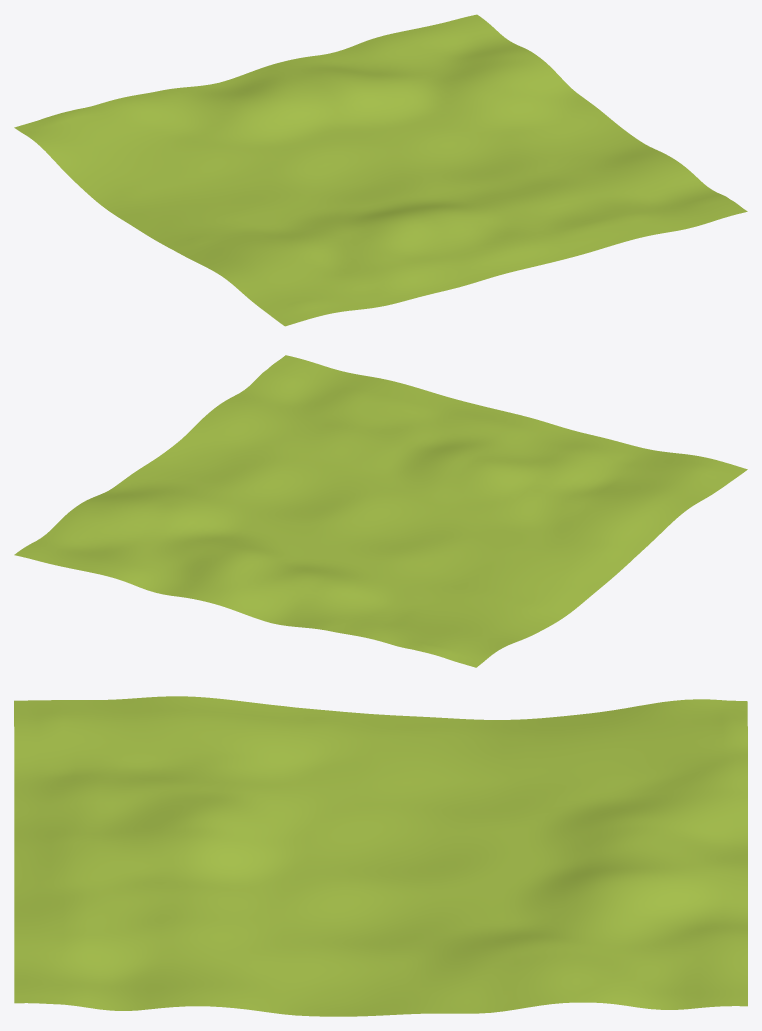
File: carre11.fbx
The picture shows the model from 3 angles, top to bottom: view 1: azimuth 30°, elevation 25°; view 2: azimuth 150°, elevation 25°; view 3: azimuth 270°, elevation 25°; orthographic projection. The views are drawn at different scales.
Visible parts, largest first — view 1: carre11; view 2: carre11; view 3: carre11.
Boxes of the visible parts, bbox=[...] form: carre11: bbox=[14, 14, 747, 326]; carre11: bbox=[14, 355, 747, 667]; carre11: bbox=[14, 696, 747, 1016].
Size of the model in its own units: 710 by 32.49 by 721.
